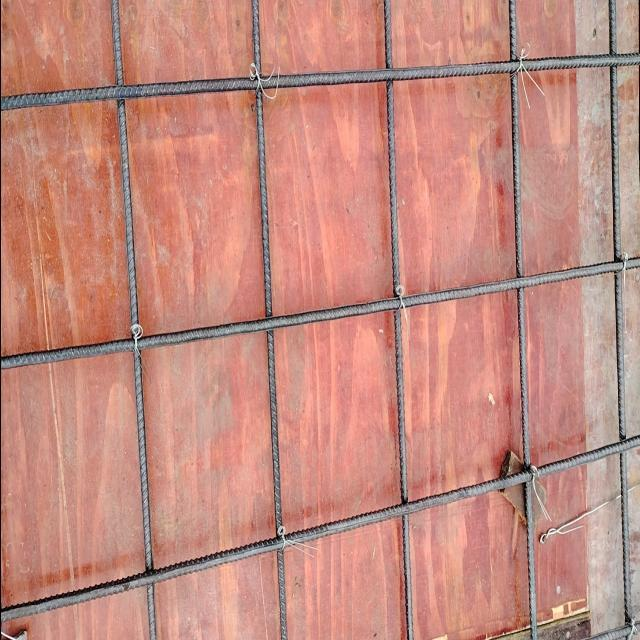ribbed bar: (1, 437, 640, 625), (1, 256, 640, 376), (1, 54, 640, 114), (110, 1, 158, 640), (250, 1, 288, 640), (382, 1, 413, 640), (507, 1, 537, 640), (606, 1, 632, 640)
